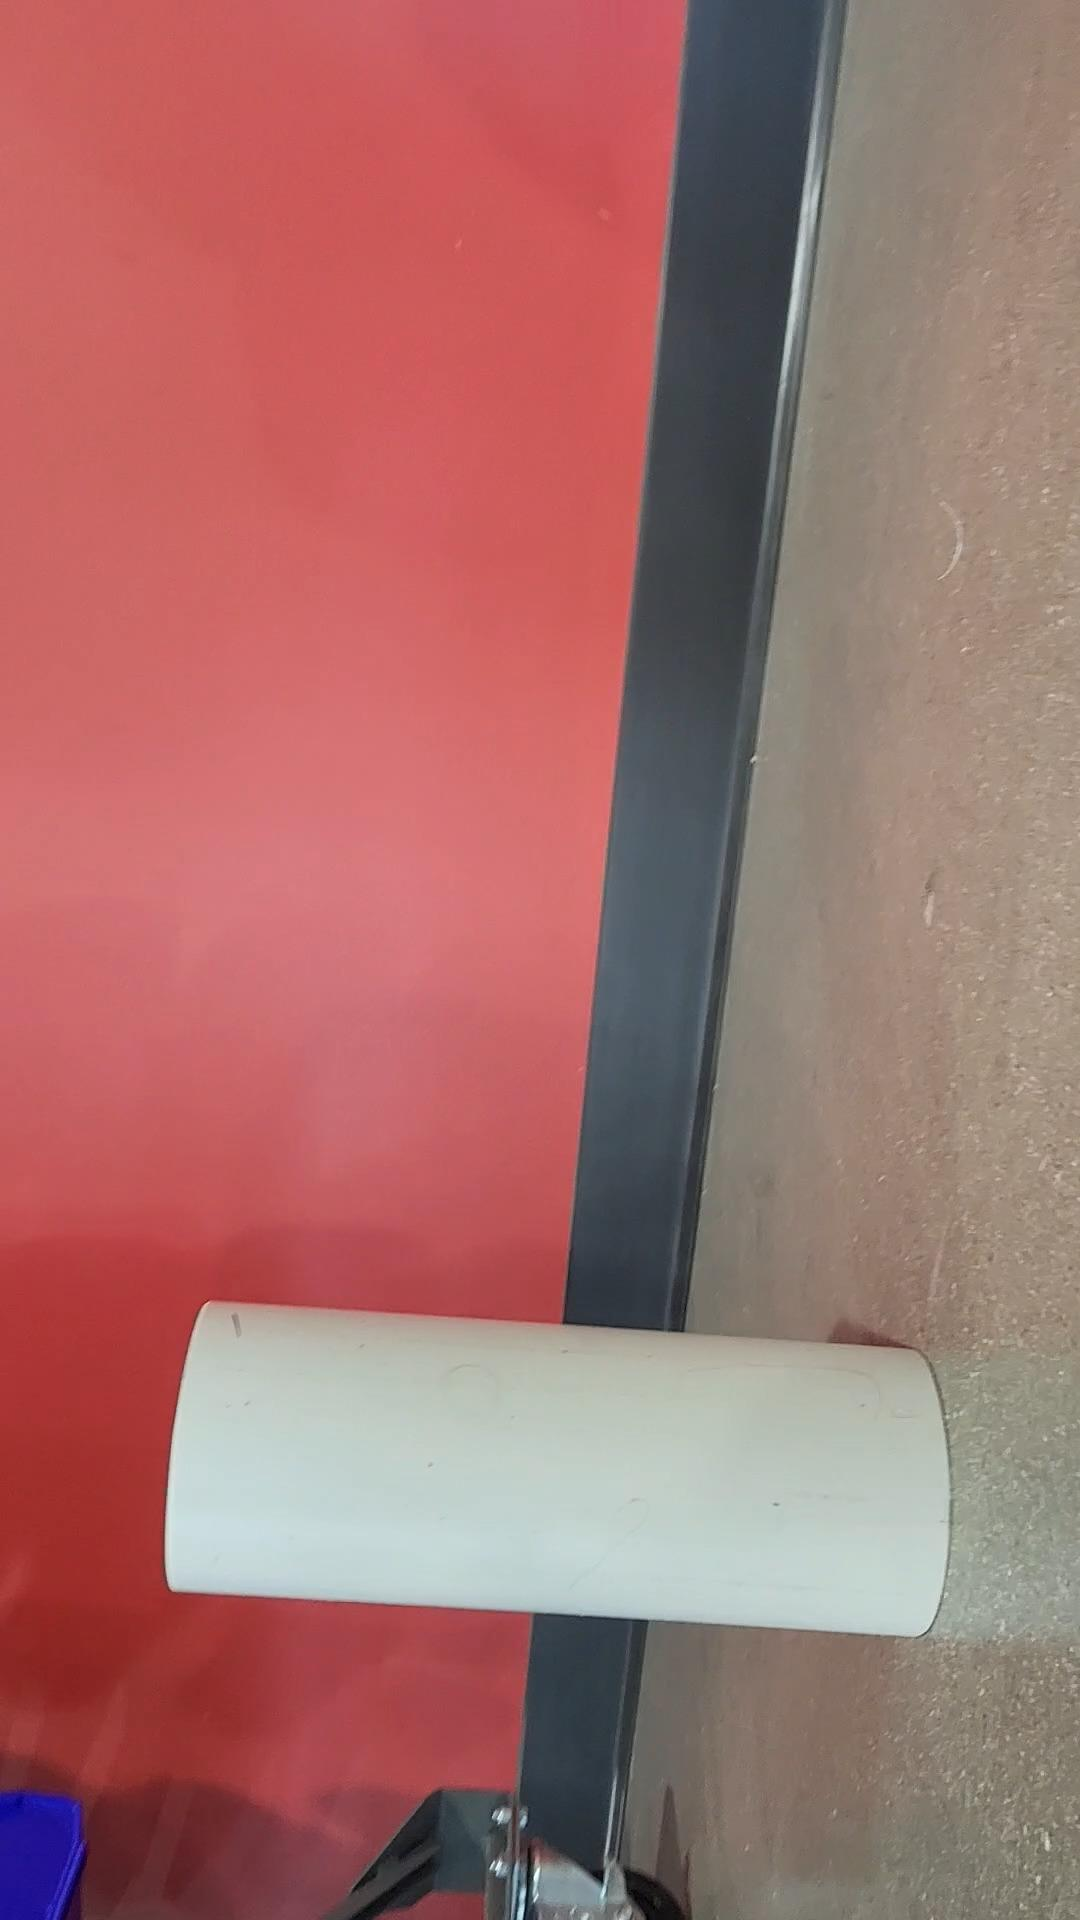coral: (165, 1298, 955, 1647)
